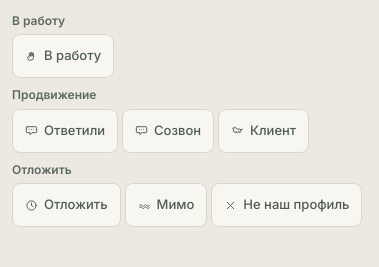
Test: FeedbackButtons motion and status feedback › fails closed when the server returns an unknown feedback status
Step 1. Click the button "В работу" → (63, 56), box x1=12 y1=34 x2=114 y2=78
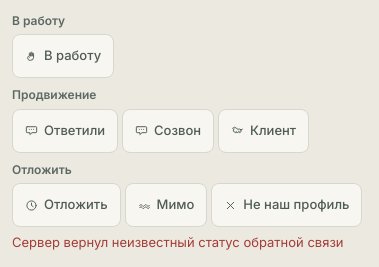
Expected: the message reads "Сервер вернул неизвестный статус обратной связи", x1=12 y1=234 x2=344 y2=250
